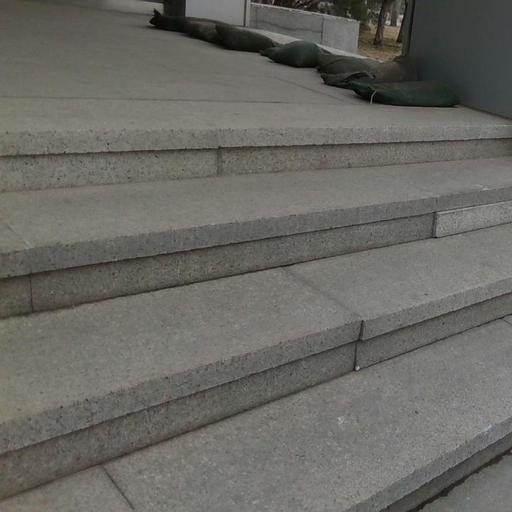stairs: (0, 138, 511, 511), (0, 320, 511, 511)
